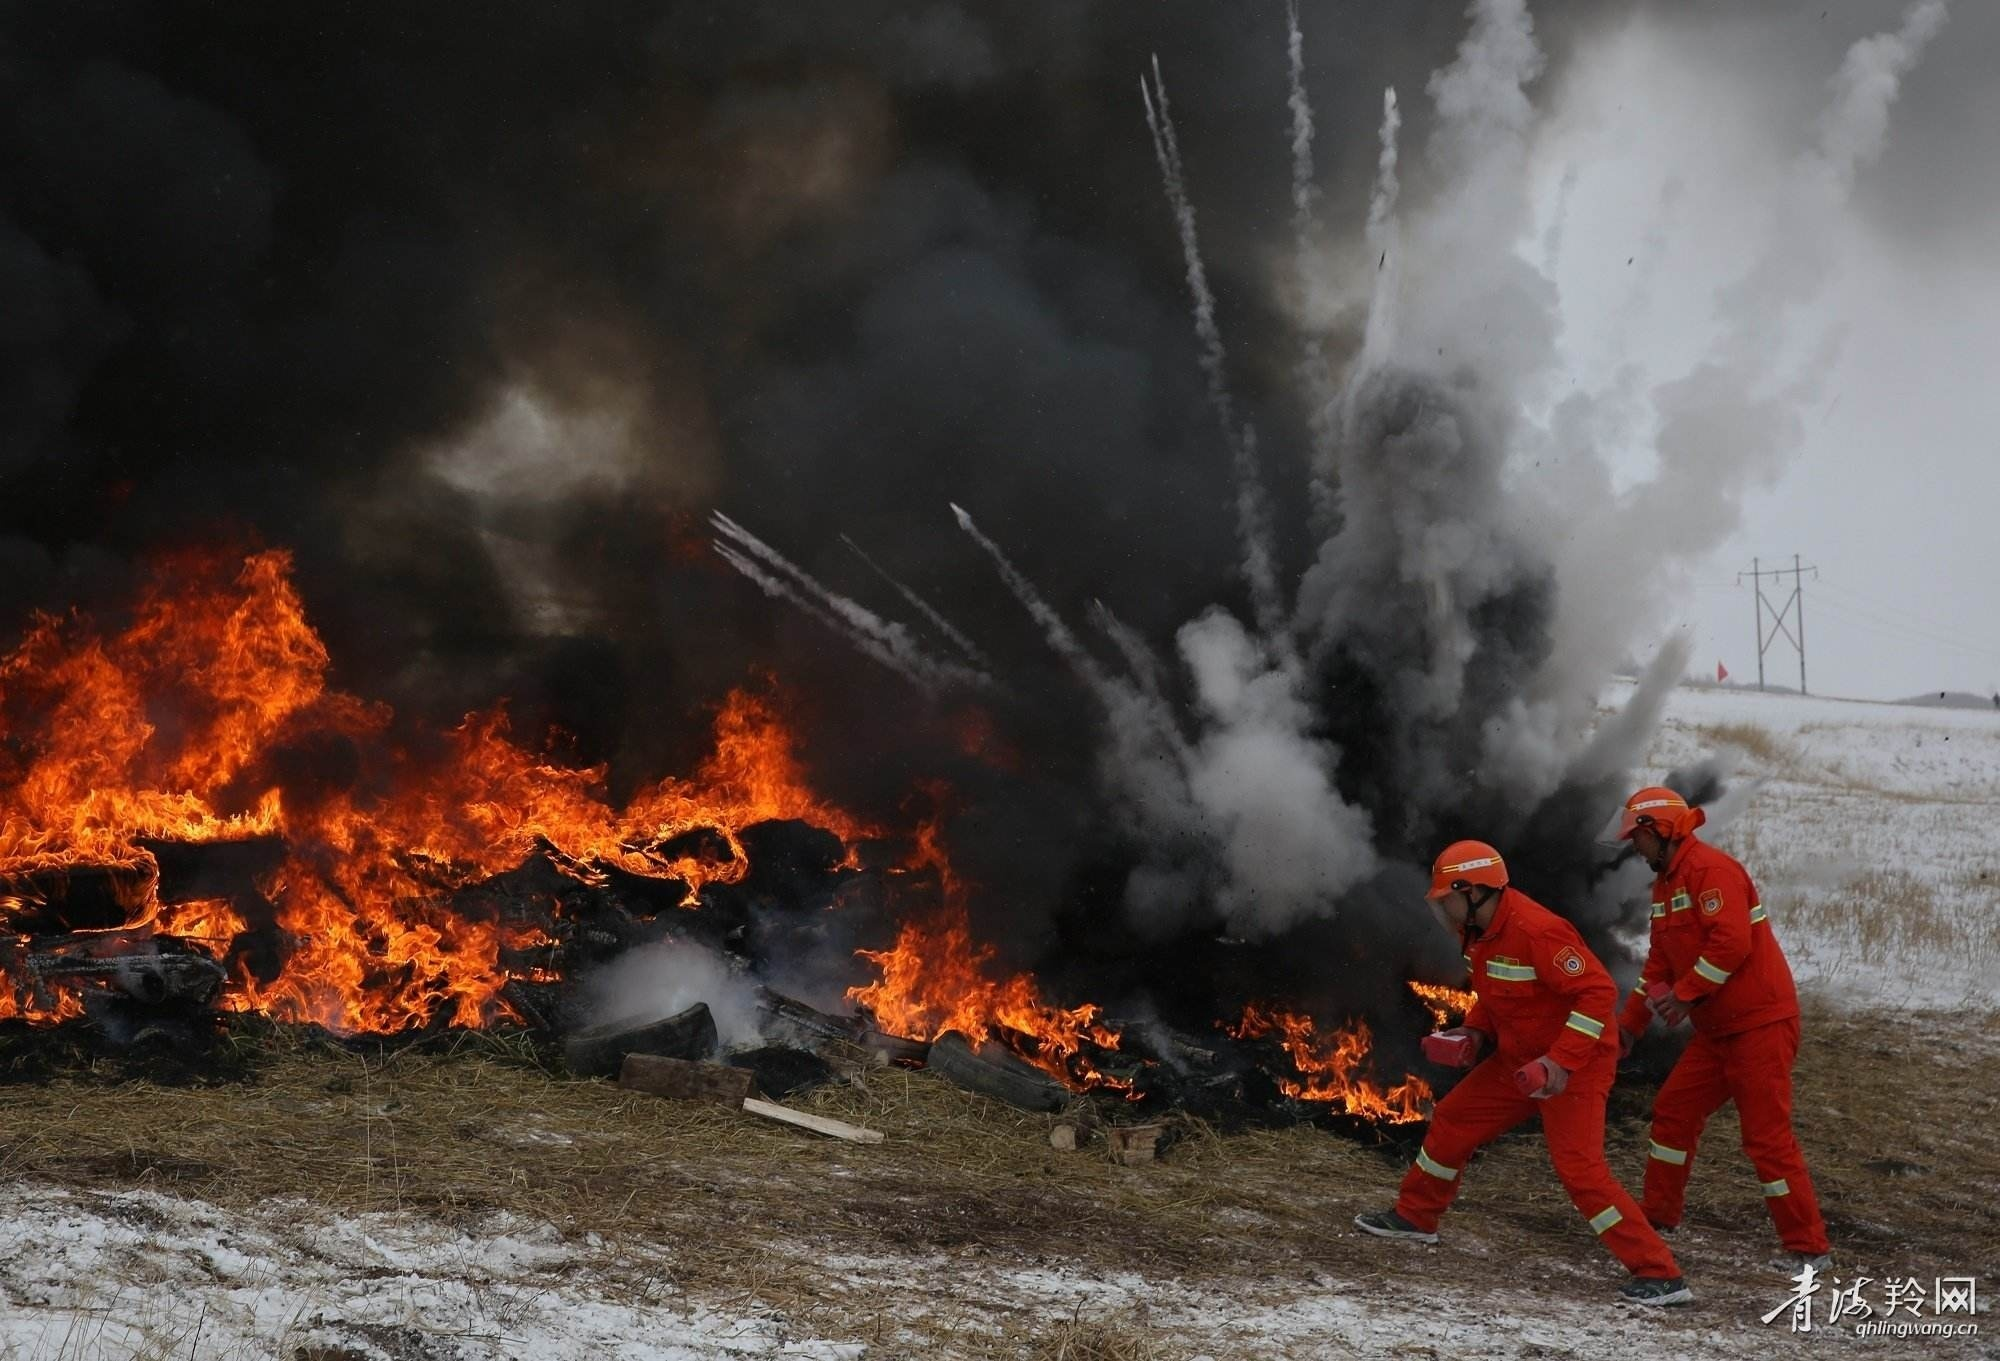fire: (0, 518, 1125, 1072), (1216, 981, 1450, 1129)
